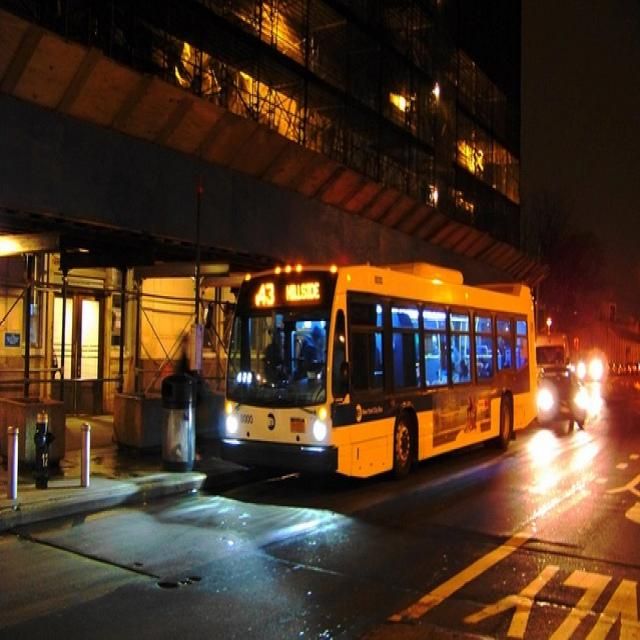Bus: (209, 262, 541, 491)
car: (544, 307, 614, 410), (530, 346, 592, 446)
